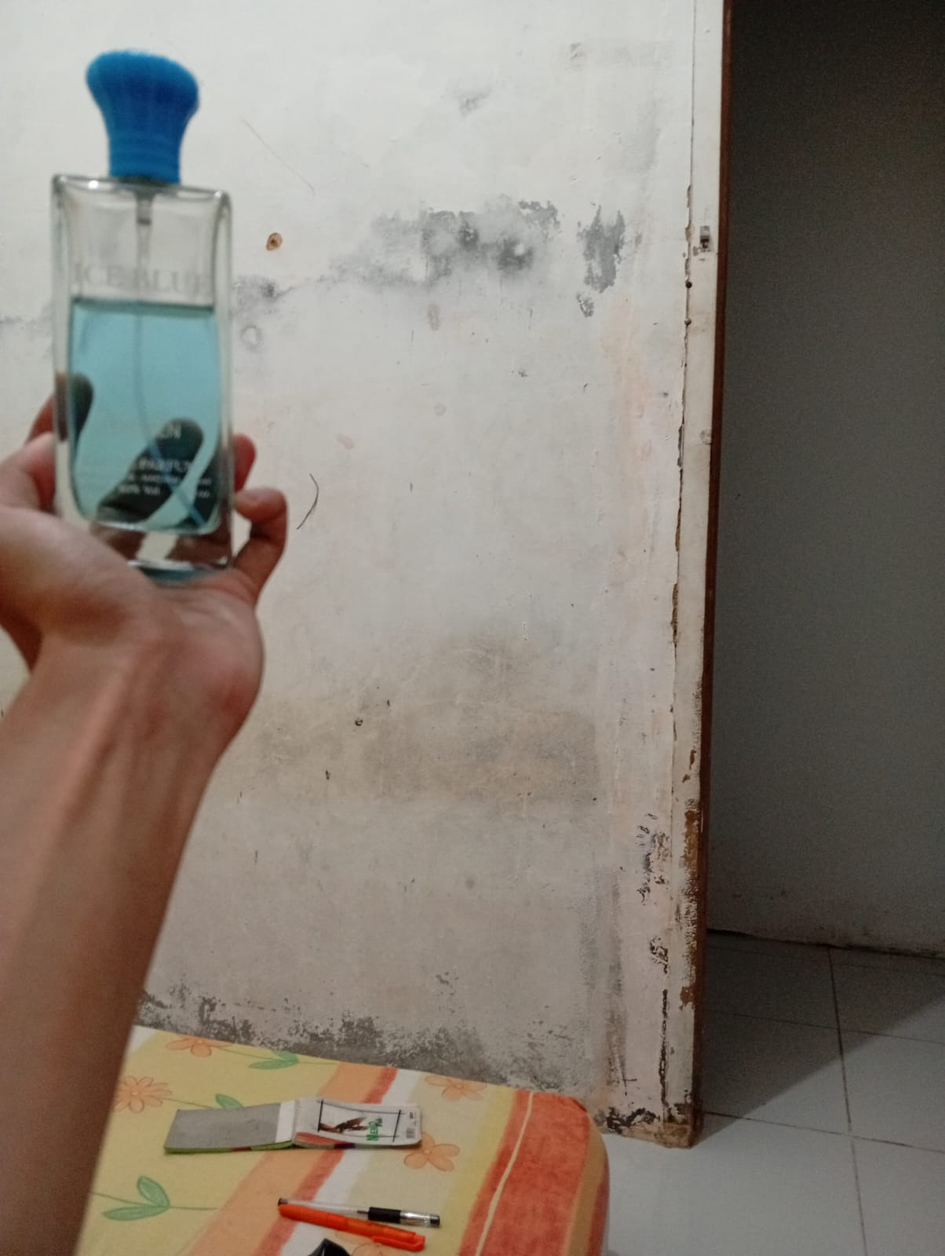Parfum: (15, 35, 313, 607)
